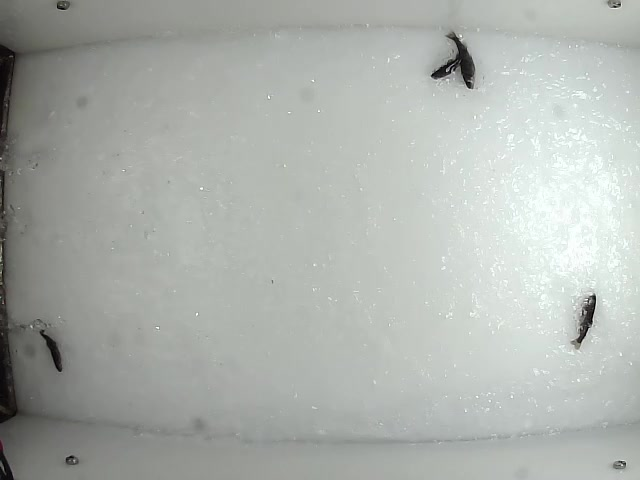fish: (444, 26, 477, 91), (567, 291, 598, 352), (427, 42, 469, 80), (37, 326, 64, 374)
